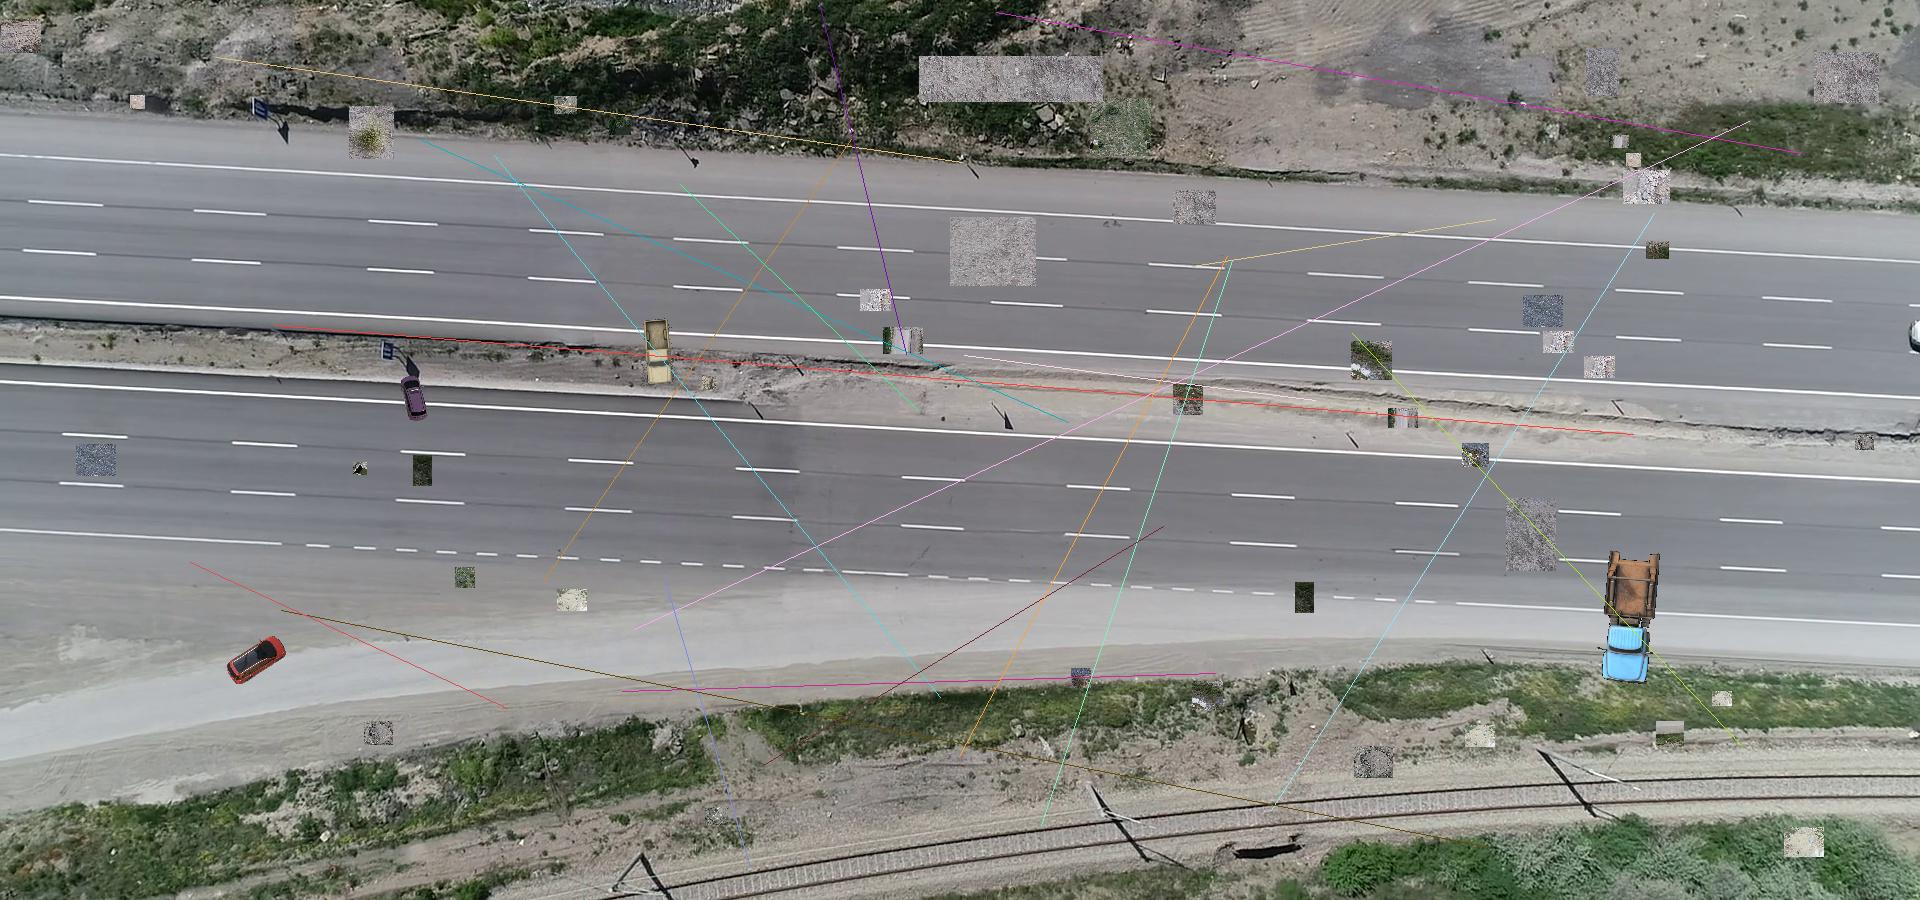arac: (1597, 549, 1663, 686), (227, 636, 287, 684), (640, 318, 675, 386), (400, 376, 431, 422)
